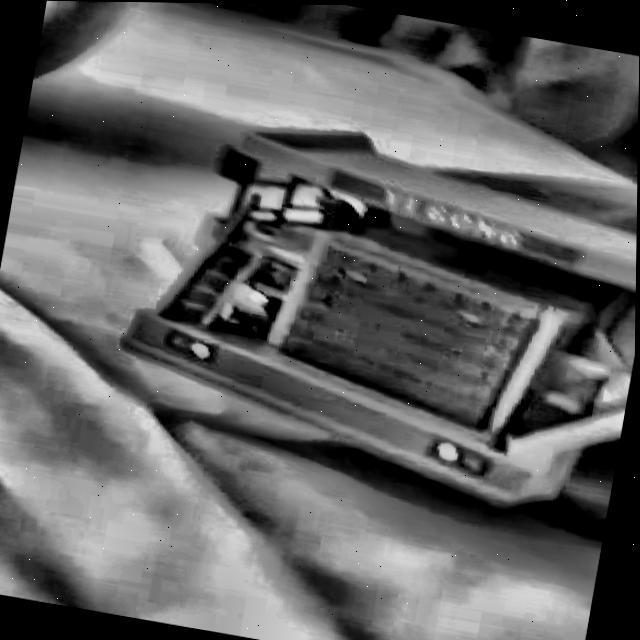dump_truck: (130, 90, 639, 521)
